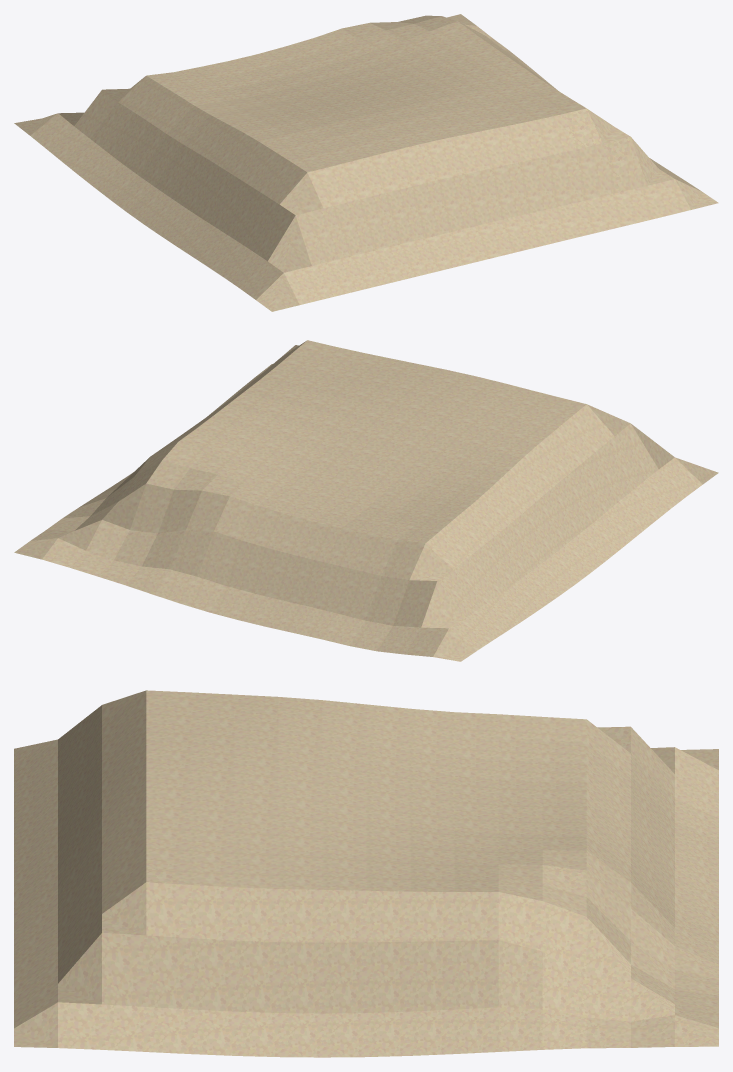
Rendered from SandPlane.fbx.
3 renders of one model, top to bottom at view 1: azimuth 30°, elevation 25°; view 2: azimuth 150°, elevation 25°; view 3: azimuth 270°, elevation 25°, orthographic. The views are drawn at different scales.
Parts seen in each view (by area): view 1: Plane.003; view 2: Plane.003; view 3: Plane.003.
Part boxes in pixels (<box>): Plane.003: <box>14,14,718,311</box>; Plane.003: <box>14,340,718,661</box>; Plane.003: <box>14,690,718,1057</box>.
Size of the model in its own units: 6062 by 1260 by 6062.
